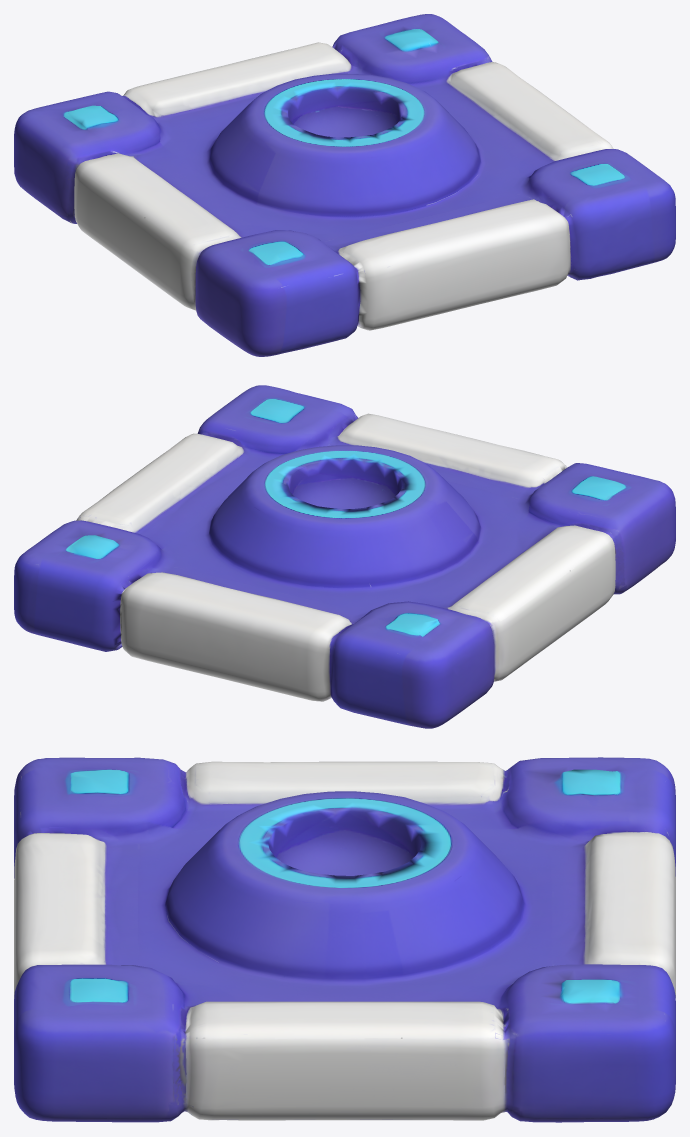
Rendered from Rotator Hammer - B_texture.fbx.
The picture shows the model from 3 angles, top to bottom: view 1: azimuth 30°, elevation 25°; view 2: azimuth 150°, elevation 25°; view 3: azimuth 270°, elevation 25°; orthographic projection. The views are drawn at different scales.
Parts seen in each view (by area): view 1: Mesh0; view 2: Mesh0; view 3: Mesh0.
Part boxes in pixels (box(x1,y1,x2,y2)): Mesh0: box(14, 14, 675, 356); Mesh0: box(14, 385, 675, 728); Mesh0: box(14, 757, 675, 1122).
Size of the model in its own units: 192 by 47.07 by 191.
1 material, 1 textured.
